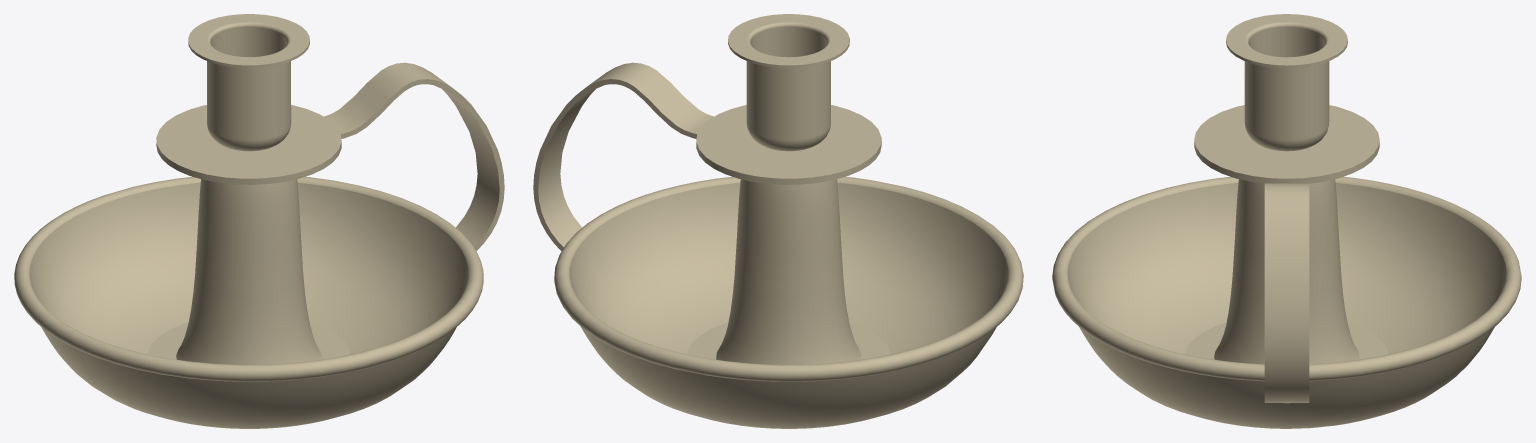
The model's file is 984_candle_house.glb.
3 views of the same model, side by side, from view 1: azimuth 30°, elevation 25°; view 2: azimuth 150°, elevation 25°; view 3: azimuth 270°, elevation 25° (orthographic).
Visible parts, largest first — view 1: Body; view 2: Body; view 3: Body.
Boxes of the visible parts, x1,y1,x2,y2 form: Body: (14, 14, 504, 428); Body: (533, 14, 1023, 428); Body: (1052, 14, 1521, 428).
Size of the model in its own units: 0.1398 by 0.0993 by 0.127.
